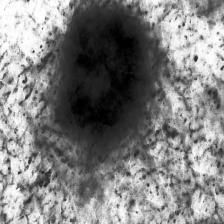Benign Marking or Mole: (55, 10, 147, 138)
